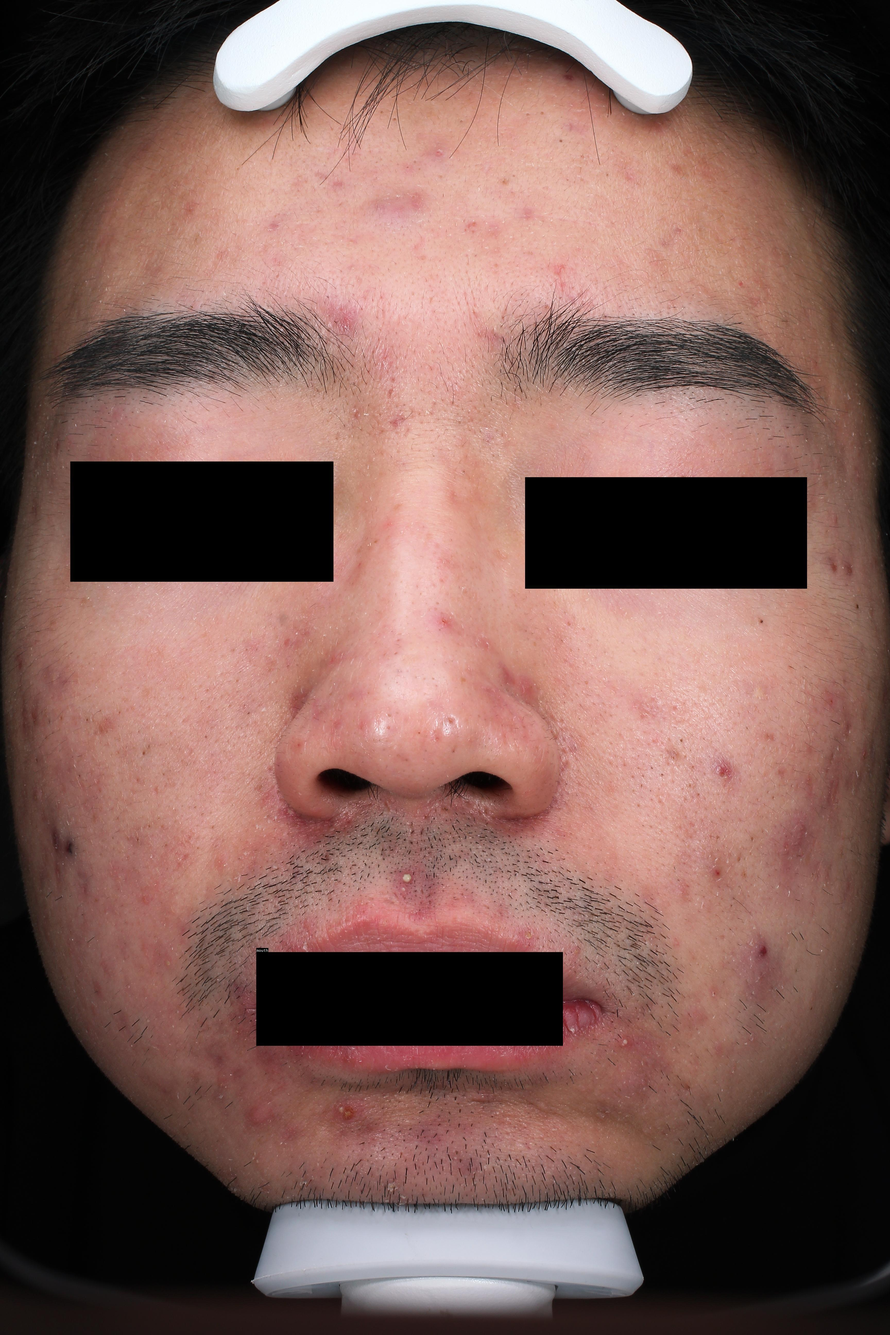atrophic_scar: (781, 815, 827, 889), (188, 1037, 235, 1102), (246, 1047, 290, 1106), (73, 869, 94, 895), (827, 776, 841, 805), (429, 727, 445, 748), (549, 263, 570, 278), (806, 770, 816, 799), (763, 730, 780, 741), (392, 414, 405, 428), (381, 798, 392, 813), (179, 853, 191, 866), (469, 1098, 490, 1105), (268, 221, 280, 233), (332, 180, 345, 189), (447, 715, 456, 727), (845, 563, 854, 575), (151, 785, 160, 797), (831, 563, 837, 571), (275, 271, 281, 278), (354, 410, 358, 420), (719, 934, 725, 940)
closed_comedo: (350, 266, 356, 269)
hypertrophic_scar: (750, 685, 768, 702), (400, 1117, 420, 1126)
nevus: (681, 475, 687, 481), (760, 618, 764, 624), (856, 604, 860, 610)
nodule: (732, 933, 783, 1010), (46, 819, 78, 864)
open_comedo: (736, 855, 742, 863), (679, 737, 686, 743), (392, 651, 399, 657), (233, 678, 240, 684), (392, 116, 398, 122), (539, 110, 545, 116), (141, 750, 147, 756), (235, 166, 241, 172), (258, 783, 264, 789), (457, 419, 463, 425), (378, 109, 385, 114), (525, 112, 531, 117), (47, 718, 52, 724), (203, 734, 209, 739), (750, 836, 755, 842), (147, 823, 152, 829), (511, 173, 517, 178), (386, 712, 392, 717), (458, 119, 465, 123), (412, 159, 417, 164), (117, 710, 122, 715), (136, 837, 140, 843), (660, 772, 664, 777), (696, 792, 701, 796), (462, 469, 466, 474), (387, 725, 391, 730), (35, 758, 38, 764), (559, 139, 563, 143), (246, 711, 250, 715), (688, 783, 692, 787), (436, 601, 440, 605), (77, 774, 80, 778), (85, 718, 88, 722), (606, 173, 610, 176), (245, 648, 249, 651), (651, 766, 654, 769)
papule: (245, 1104, 272, 1126), (432, 614, 455, 631), (338, 314, 356, 333), (281, 806, 301, 820), (499, 668, 514, 686), (713, 763, 730, 778), (430, 147, 449, 160), (571, 943, 582, 957), (676, 886, 688, 898), (831, 514, 839, 525), (714, 867, 722, 878), (861, 750, 868, 760)
pustule: (334, 1098, 358, 1121), (397, 870, 415, 887), (618, 1036, 631, 1048), (165, 959, 173, 968), (399, 885, 407, 892), (255, 1158, 262, 1166)
